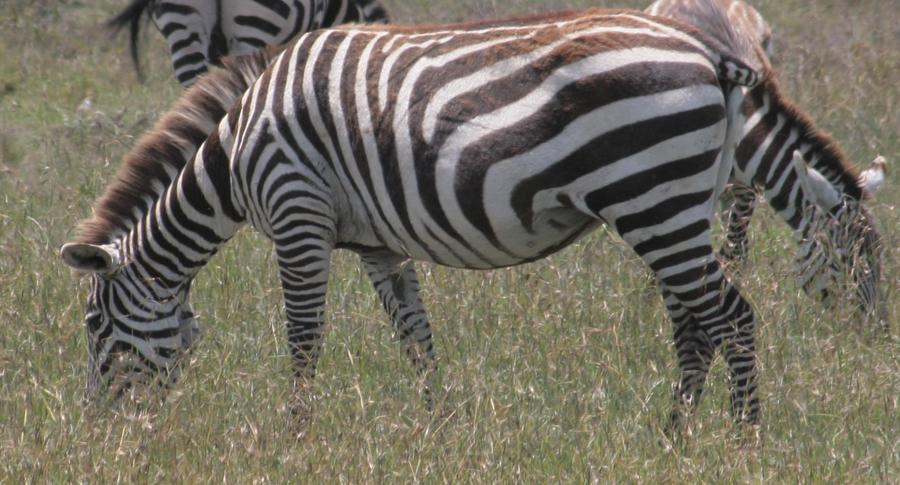zebra_plains: (223, 9, 751, 282)
